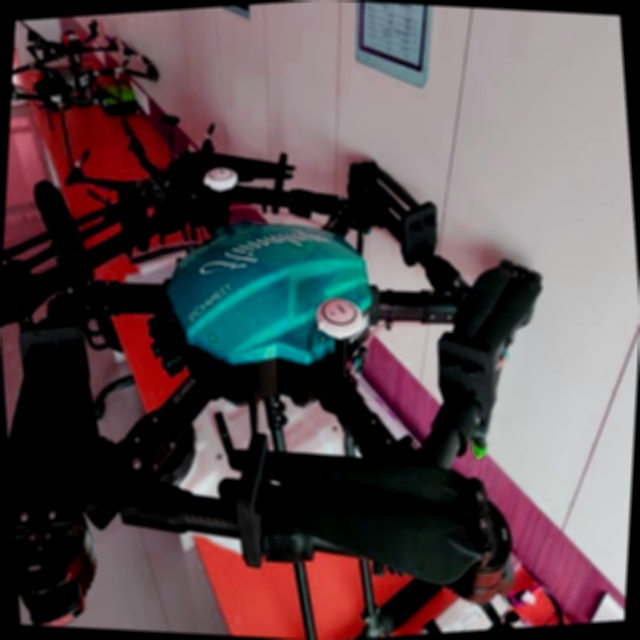agriculturedrone: (0, 105, 596, 640)
